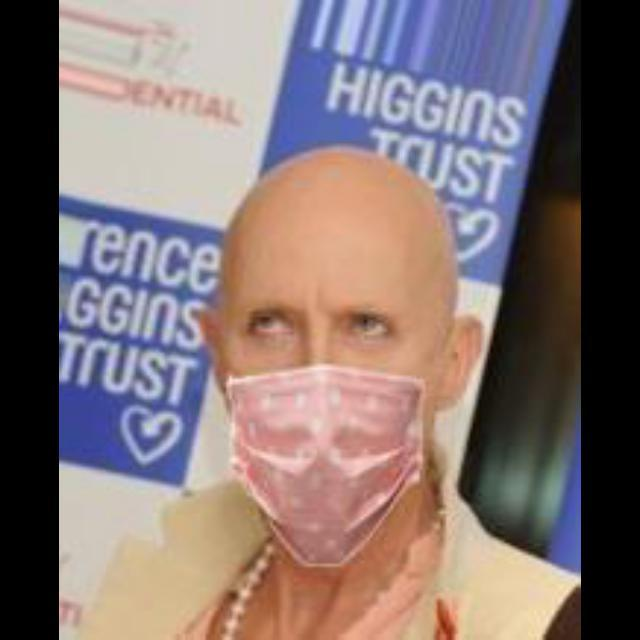suspicion: (181, 167, 495, 578)
